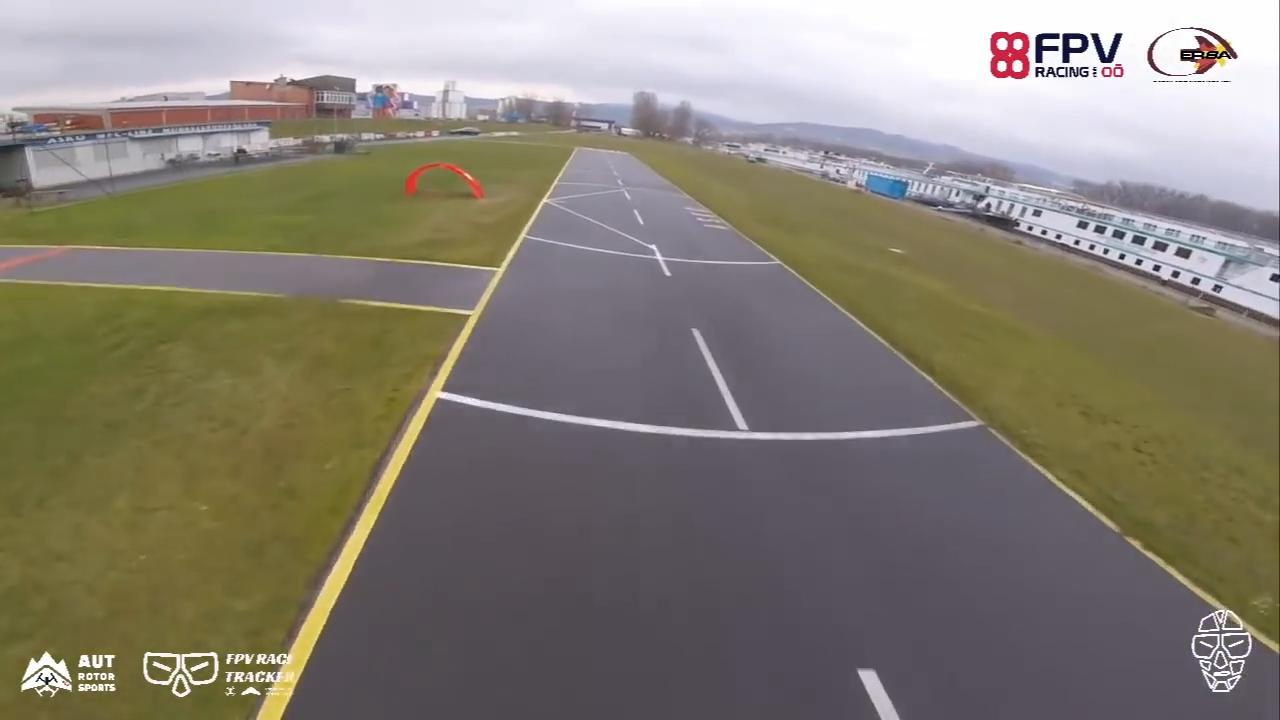gate: (405, 162, 482, 201)
